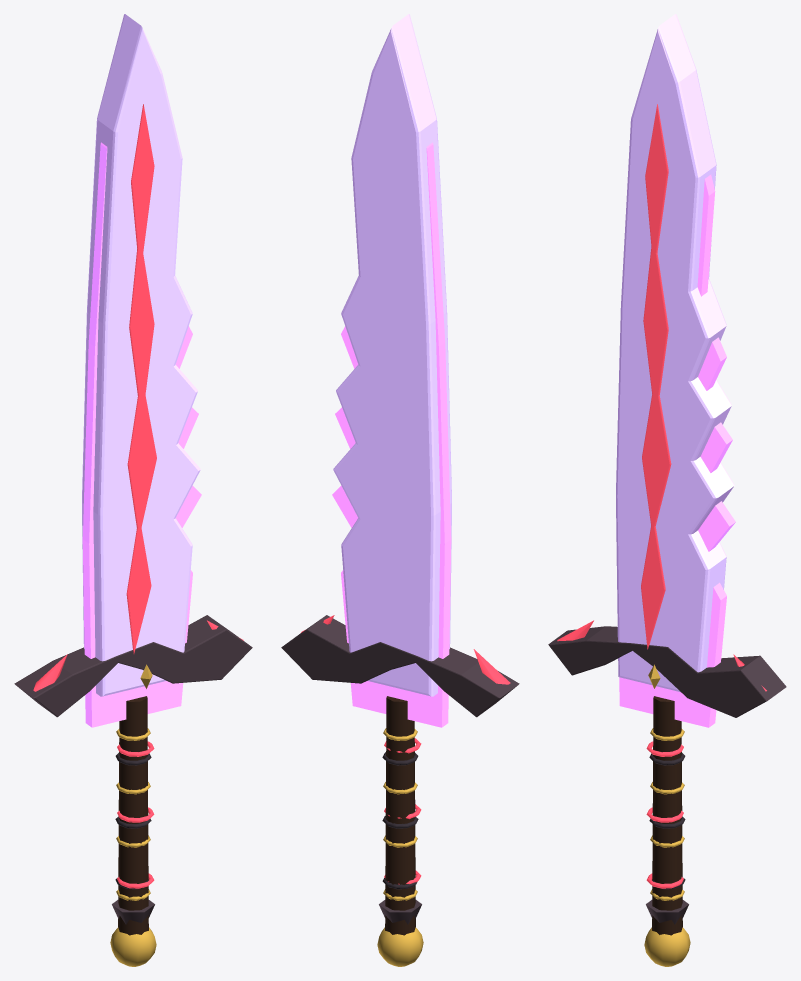
File: greatsword_f7_a645e6ba.glb
3 renders of one model, left to right at view 1: azimuth 30°, elevation 25°; view 2: azimuth 150°, elevation 25°; view 3: azimuth 330°, elevation 25°, orthographic.
Visible parts, largest first — view 1: m1_ow80_, m3_, m0_, m4_ow80_, m2_ow80_, m5_ow80_; view 2: m1_ow80_, m0_, m4_ow80_, m2_ow80_, m5_ow80_, m3_, m6_ow80_; view 3: m1_ow80_, m3_, m4_ow80_, m0_, m2_ow80_, m5_ow80_.
Boxes of the visible parts, bbox=[...] form: m1_ow80_: bbox=[82, 14, 200, 696]; m3_: bbox=[33, 104, 243, 888]; m0_: bbox=[82, 142, 201, 727]; m4_ow80_: bbox=[14, 615, 252, 924]; m2_ow80_: bbox=[118, 696, 148, 935]; m5_ow80_: bbox=[110, 664, 156, 966]; m1_ow80_: bbox=[333, 14, 451, 696]; m0_: bbox=[332, 142, 451, 727]; m4_ow80_: bbox=[281, 615, 519, 924]; m2_ow80_: bbox=[385, 696, 415, 935]; m5_ow80_: bbox=[377, 728, 423, 966]; m3_: bbox=[301, 615, 510, 884]; m6_ow80_: bbox=[382, 752, 418, 889]; m1_ow80_: bbox=[616, 14, 734, 692]; m3_: bbox=[557, 104, 766, 888]; m4_ow80_: bbox=[548, 626, 786, 924]; m0_: bbox=[619, 174, 735, 727]; m2_ow80_: bbox=[652, 696, 682, 935]; m5_ow80_: bbox=[644, 664, 690, 966].
Size of the model in its own units: 0.8712 by 3.59 by 0.1899.
